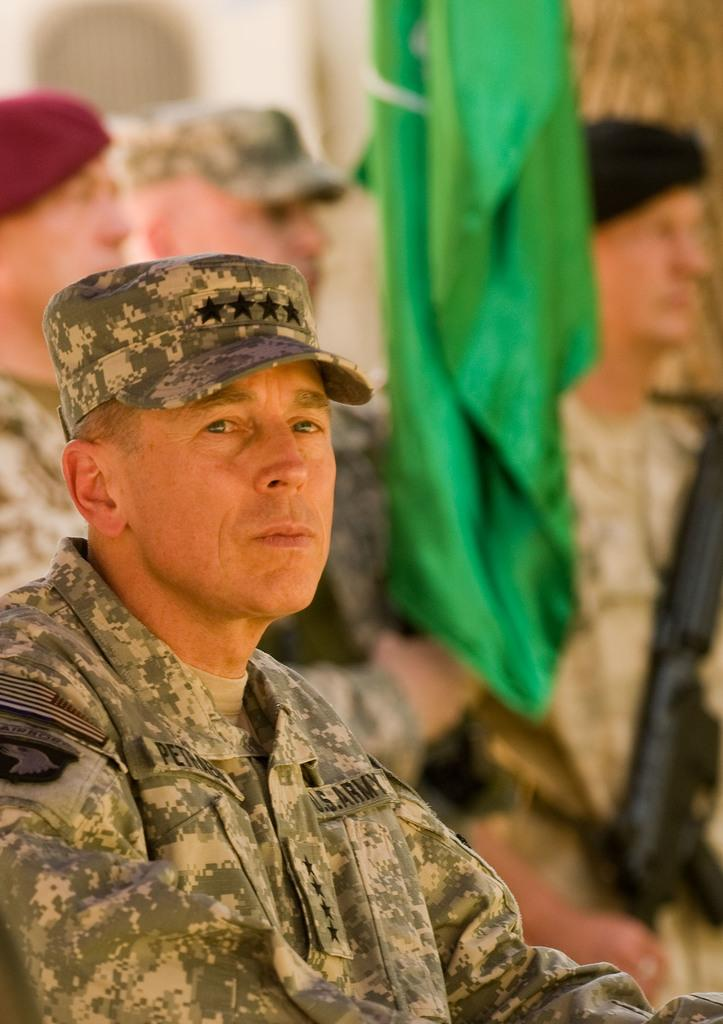Hat: (42, 250, 373, 442), (121, 102, 350, 213)
